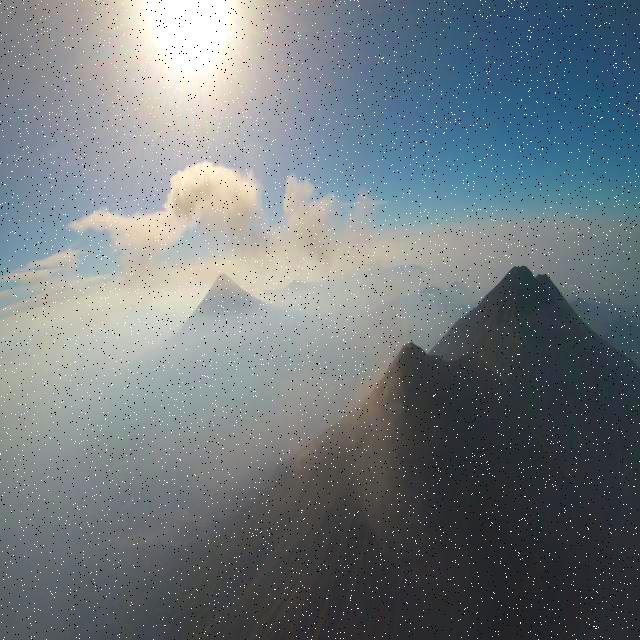Plume: (165, 156, 262, 242), (282, 167, 344, 270)
Summit: (389, 334, 444, 371)
